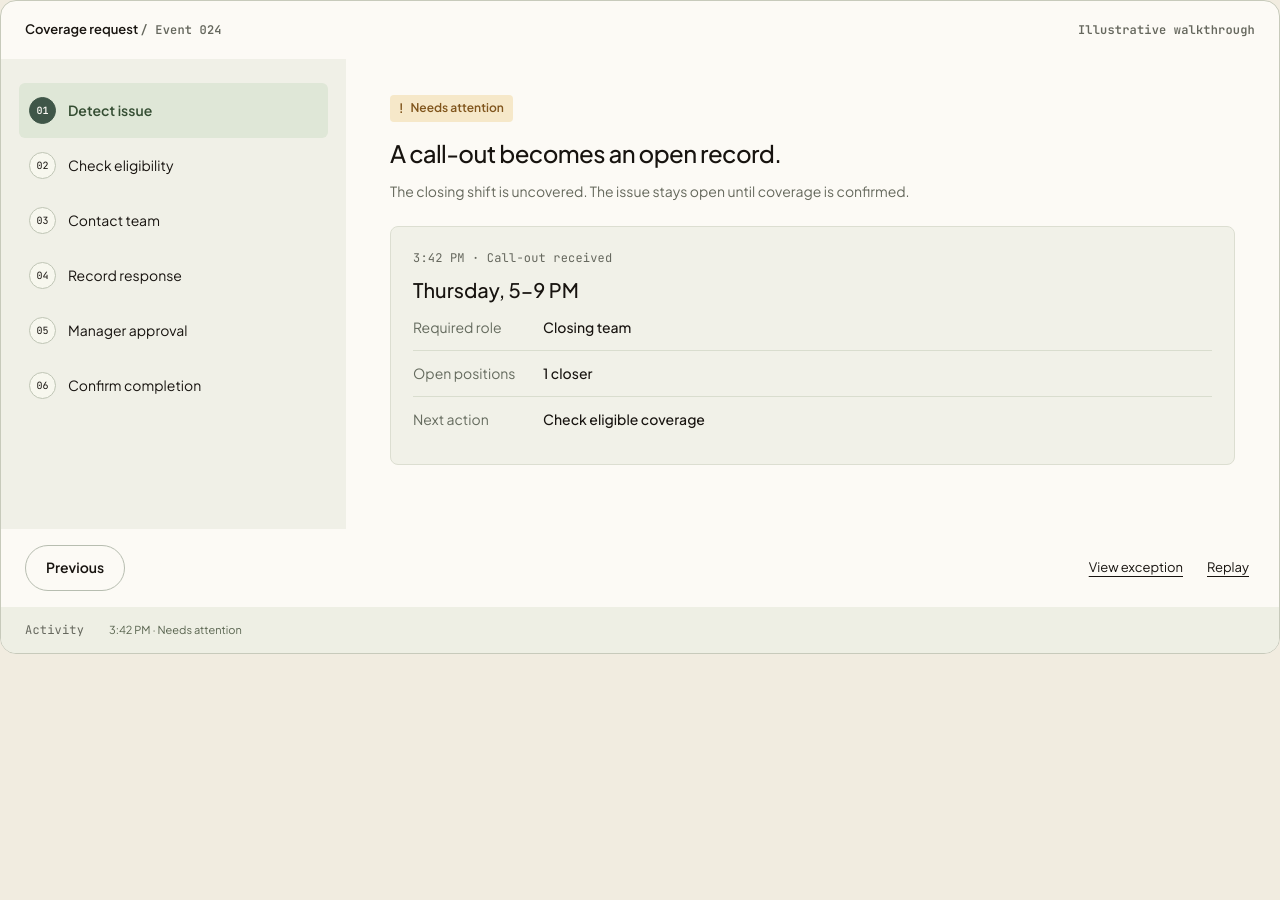
Test: coverage walkthrough › escalates an exception without assigning anyone
Click the button "View exception" at (1136, 568), box [1083,546,1189,590]
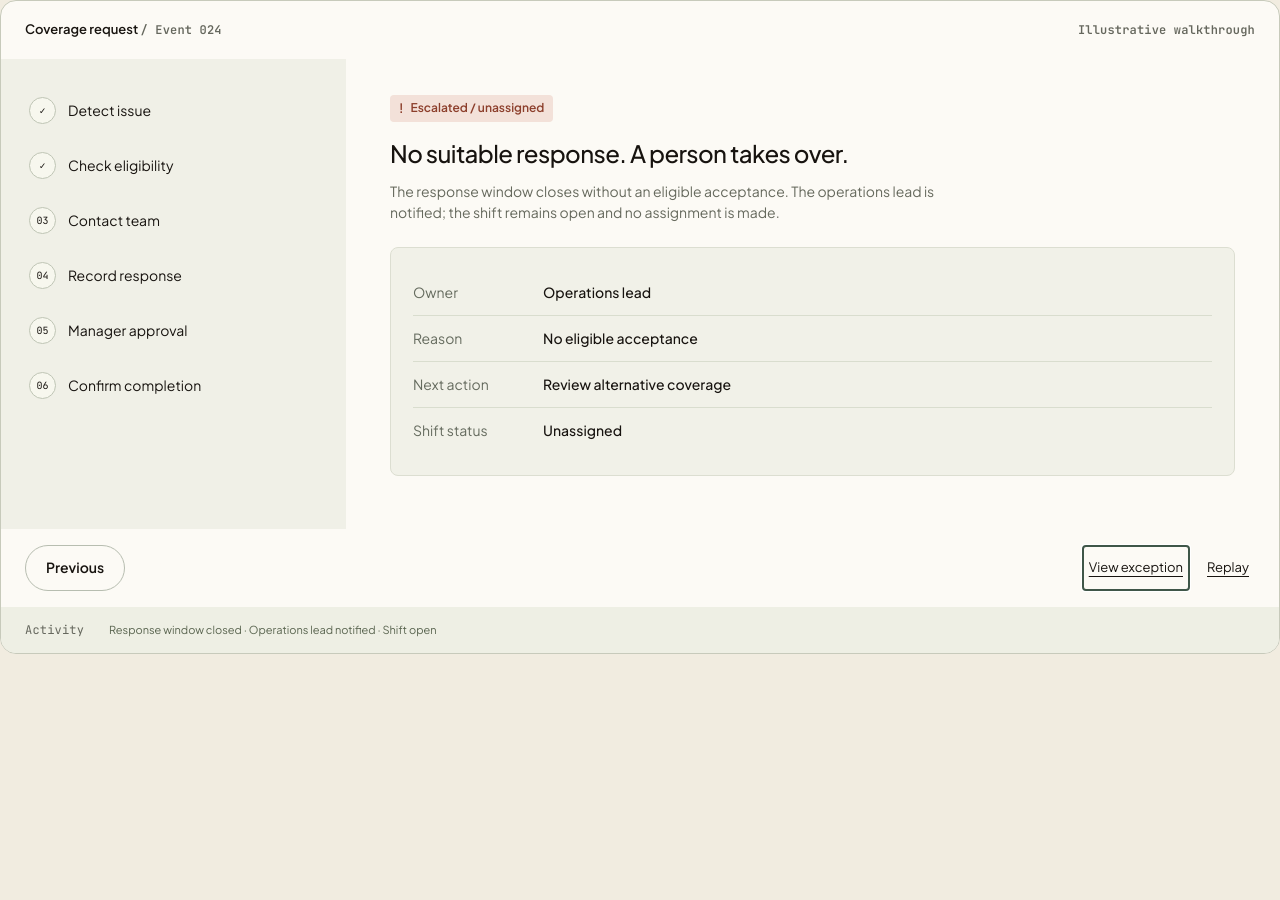
Result: the text "Unassigned" is shown at [543,421,622,439]
Result: the text "Operations lead" is shown at [543,283,651,301]
Click the button "Replay" at (1228, 568), box [1201,546,1255,590]
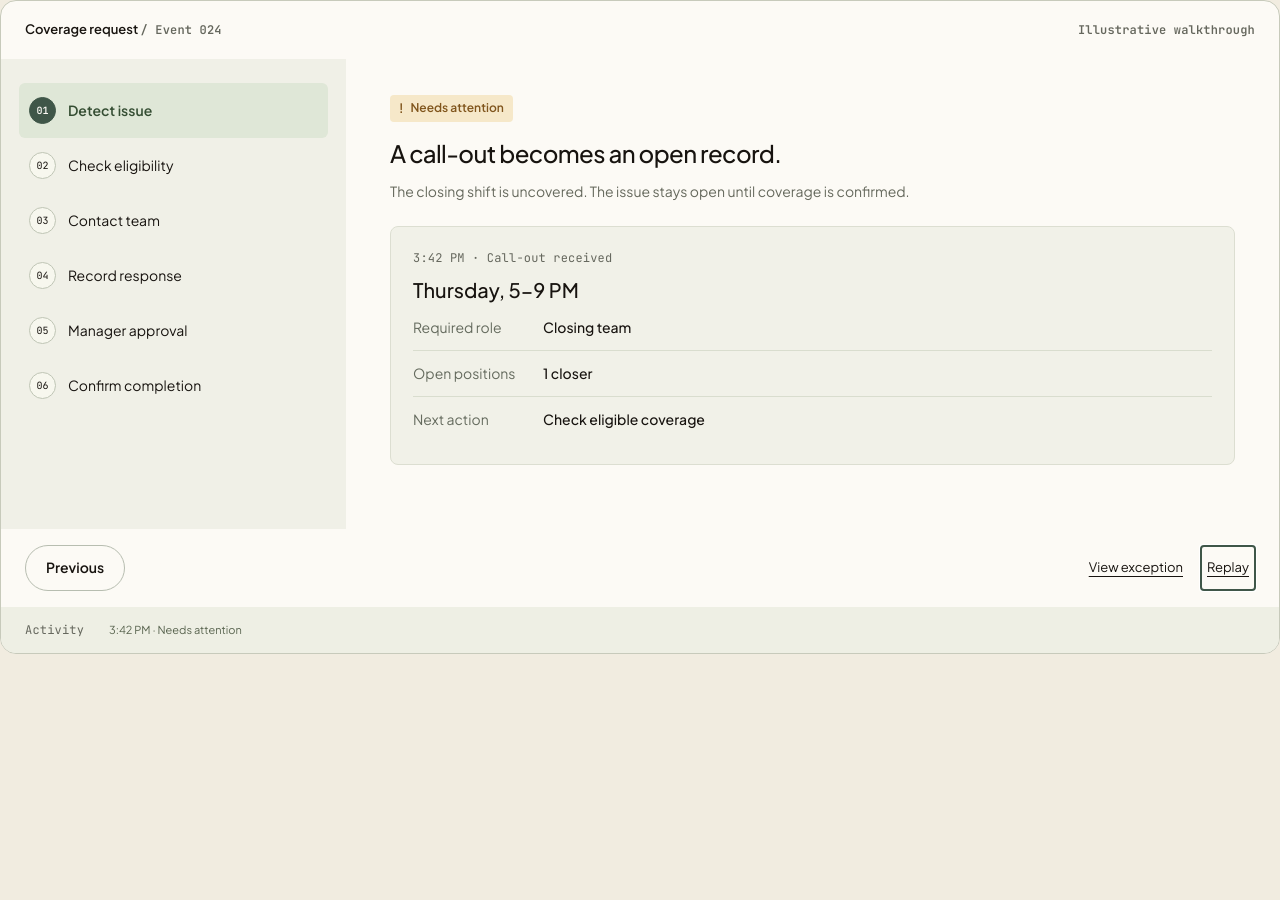
Result: the heading "A call-out becomes an open record." is shown at [390,138,781,168]
